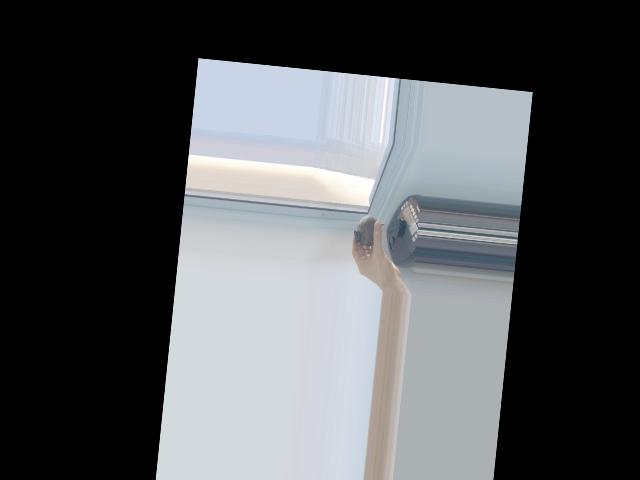beet: (352, 213, 386, 250)
